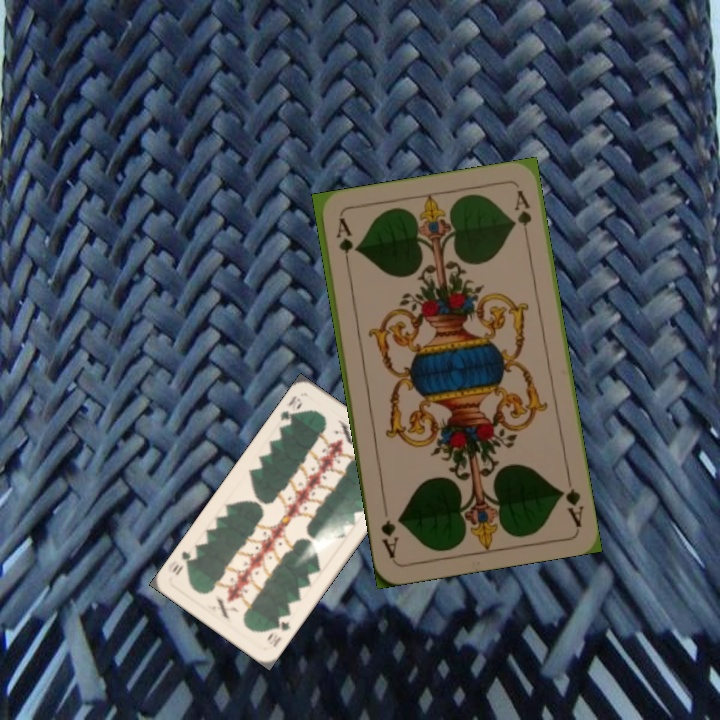G10: (276, 391, 303, 424), (269, 617, 293, 650)
GA: (556, 470, 587, 529), (332, 214, 355, 273)
